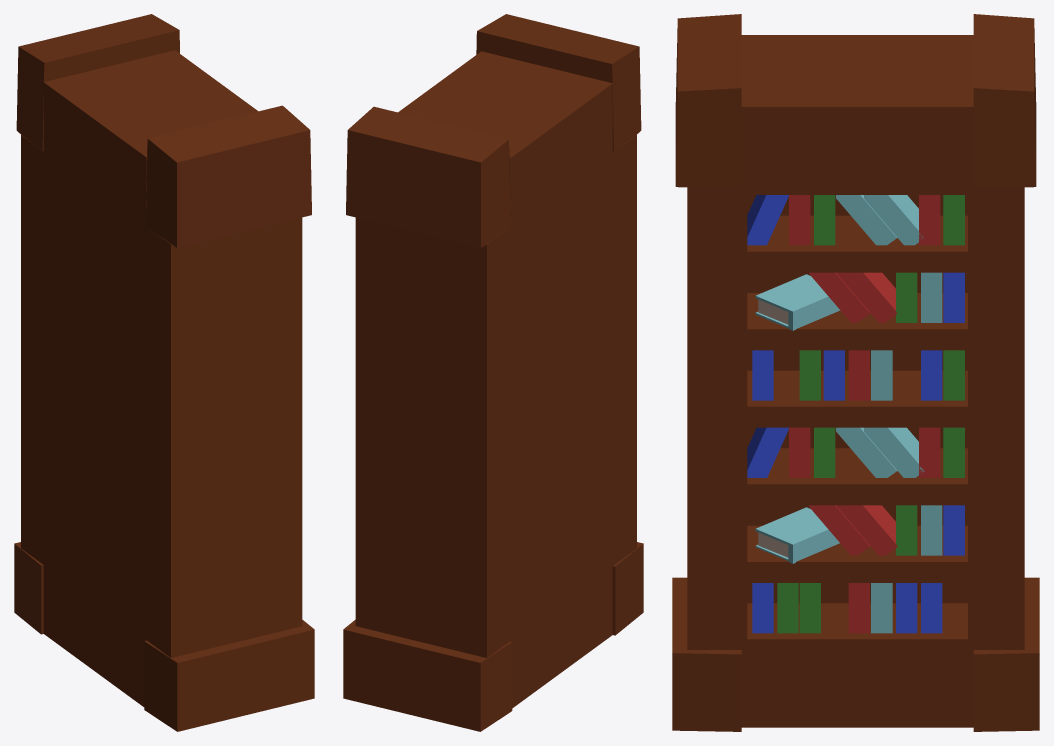
File: BookcaseSmallFull.fbx
3 views of the same model, side by side, from view 1: azimuth 30°, elevation 25°; view 2: azimuth 150°, elevation 25°; view 3: azimuth 270°, elevation 25° (orthographic). The views are drawn at different scales.
Visible parts, largest first — view 1: Cube.059; view 2: Cube.059; view 3: Cube.059.
Boxes of the visible parts, x1,y1,x2,y2 form: Cube.059: [14, 14, 314, 731]; Cube.059: [343, 14, 643, 731]; Cube.059: [672, 14, 1039, 731].
Bounding box in the file's own units: 156 × 598 × 310.
